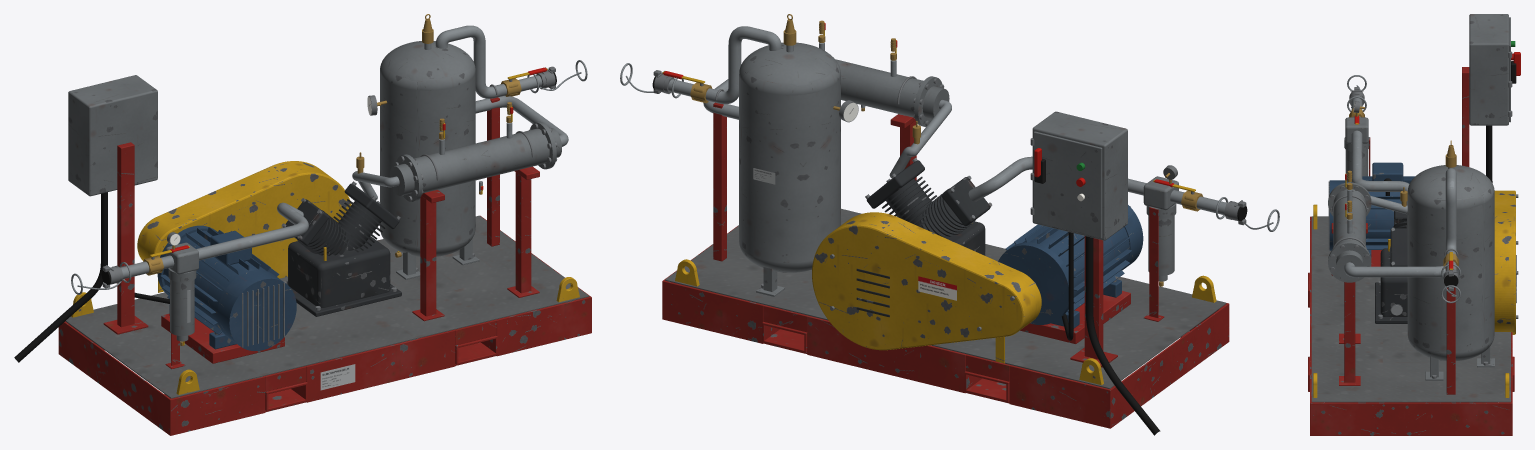
File: SM_Surcompresseur.glb
3 views of the same model, side by side, from view 1: azimuth 30°, elevation 25°; view 2: azimuth 150°, elevation 25°; view 3: azimuth 270°, elevation 25° (orthographic). The views are drawn at different scales.
Visible parts, largest first — view 1: patin, receiver, demarreur, refroidisseur, moteur, bloc, garde, raccords, filtre; view 2: patin, receiver, garde, demarreur, moteur, raccords, refroidisseur, bloc, filtre; view 3: patin, receiver, demarreur, refroidisseur, raccords, garde, bloc, moteur, filtre.
Part boxes in pixels (x1,y1,x2,y2): patin: [58, 215, 591, 435]; receiver: [367, 14, 568, 279]; demarreur: [14, 75, 169, 362]; refroidisseur: [352, 102, 561, 321]; moteur: [157, 225, 296, 363]; bloc: [281, 181, 401, 316]; garde: [137, 161, 351, 292]; raccords: [71, 25, 587, 294]; filtre: [165, 202, 308, 369]; patin: [662, 208, 1229, 428]; receiver: [703, 14, 858, 296]; garde: [812, 212, 1041, 363]; demarreur: [1030, 111, 1160, 435]; moteur: [998, 205, 1143, 344]; raccords: [620, 26, 1279, 261]; refroidisseur: [818, 20, 951, 180]; bloc: [865, 158, 992, 255]; filtre: [968, 156, 1178, 321]; patin: [1308, 204, 1514, 435]; receiver: [1344, 140, 1494, 380]; demarreur: [1385, 14, 1520, 195]; refroidisseur: [1328, 170, 1407, 385]; raccords: [1347, 75, 1460, 394]; garde: [1494, 190, 1518, 334]; bloc: [1375, 211, 1407, 323]; moteur: [1328, 162, 1414, 266]; filtre: [1344, 117, 1409, 205].
Size of the model in its own units: 3.23 by 1.57 by 1.17.
Materials: 17 (11 with a texture image).
